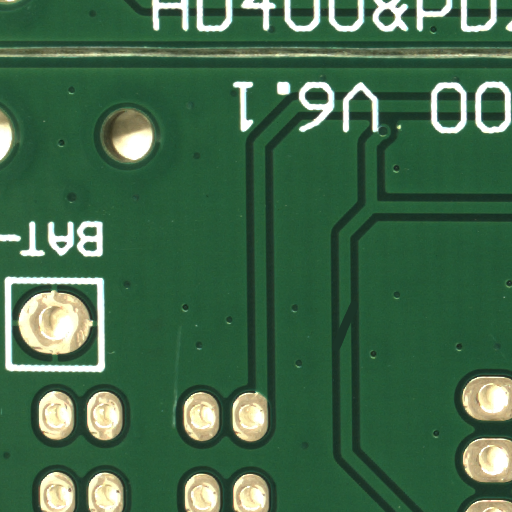Open_circuit: (345, 325, 365, 375)
